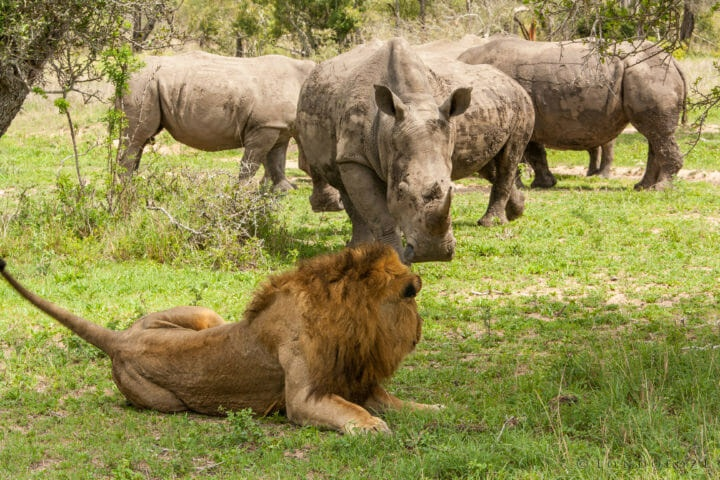rhino: (292, 36, 538, 262), (452, 35, 690, 191), (116, 49, 322, 199)
